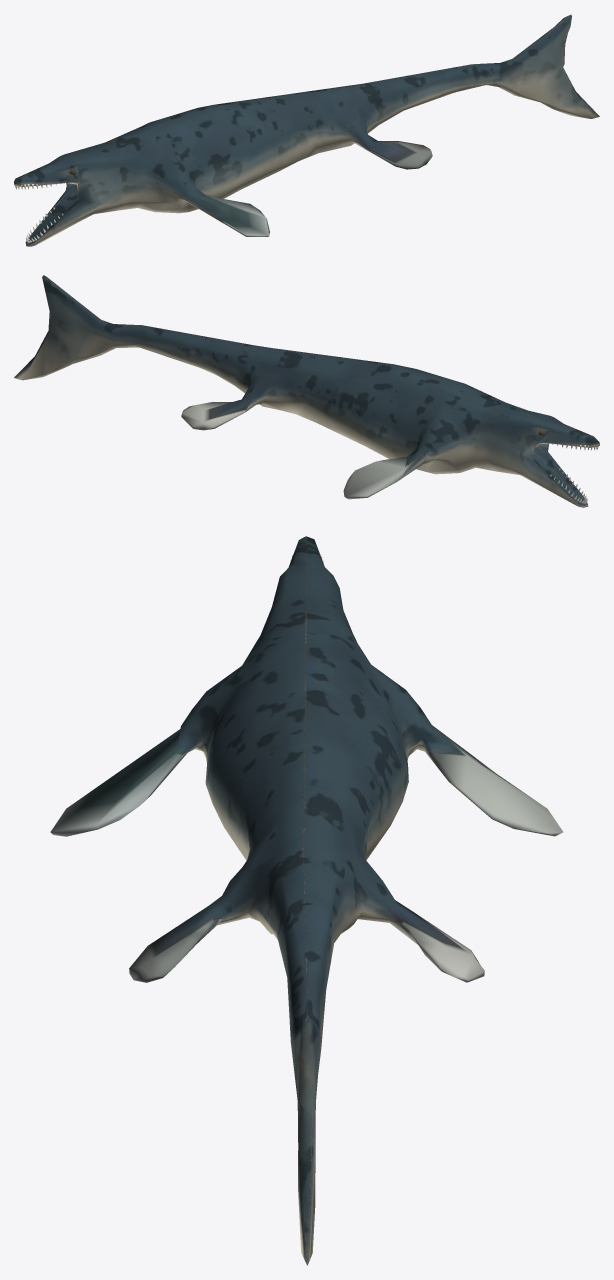
Rendered from mosasaurus.glb.
3 renders of one model, top to bottom at view 1: azimuth 30°, elevation 25°; view 2: azimuth 150°, elevation 25°; view 3: azimuth 270°, elevation 25°, orthographic. The views are drawn at different scales.
Visible parts, largest first — view 1: Object_4; view 2: Object_4; view 3: Object_4.
Boxes of the visible parts, bbox=[...] form: Object_4: bbox=[14, 14, 599, 246]; Object_4: bbox=[14, 275, 599, 507]; Object_4: bbox=[50, 536, 563, 1265].
Bounding box in the file's own units: 31.66 × 5.69 × 12.01.
Materials: 3 (1 with a texture image).
